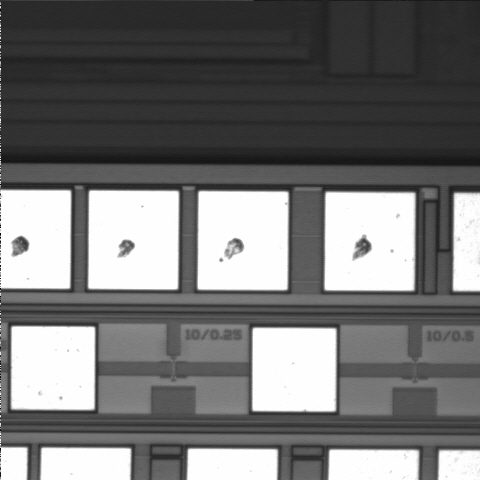pad: (88, 191, 179, 289), (198, 191, 288, 290), (325, 192, 415, 291), (11, 326, 95, 410), (252, 328, 336, 411)
